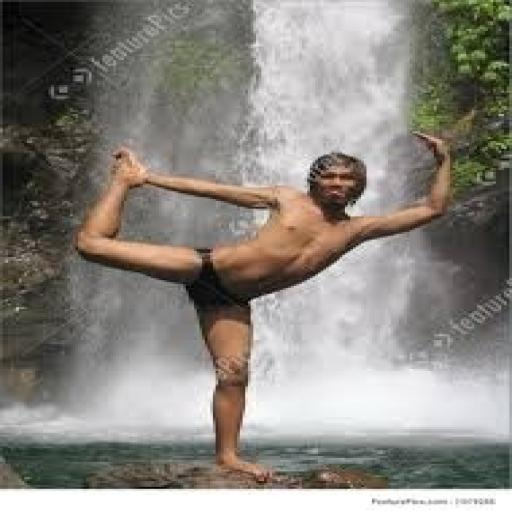dancing: (70, 129, 458, 483)
